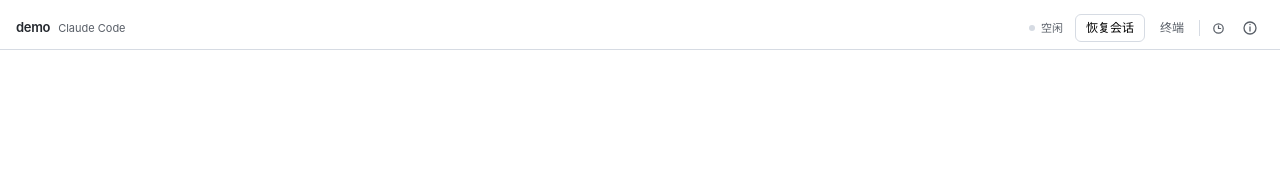
initial event diagnostics stay accessible without repeating them in the transcript
This screenshot has width=1280, height=182.
Expected: the text "初始事件模型：actual-model" is not shown
Step 1. Click the button named "显示详情" → (1250, 28), box [1236, 14, 1264, 42]
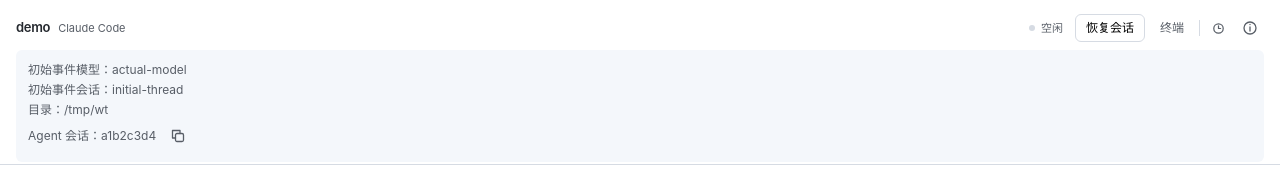
Expected: the text "初始事件模型：actual-model" is shown, [28, 62, 187, 77]
Expected: the text "初始事件会话：initial-thread" is shown, [28, 82, 184, 97]
